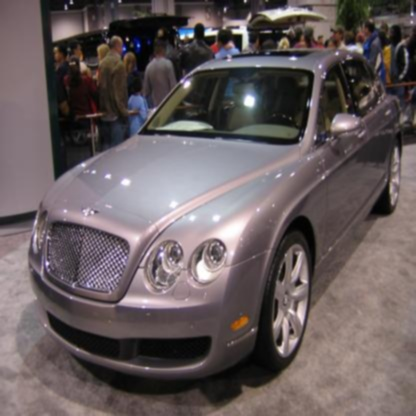Vehicle: (25, 43, 404, 391)
